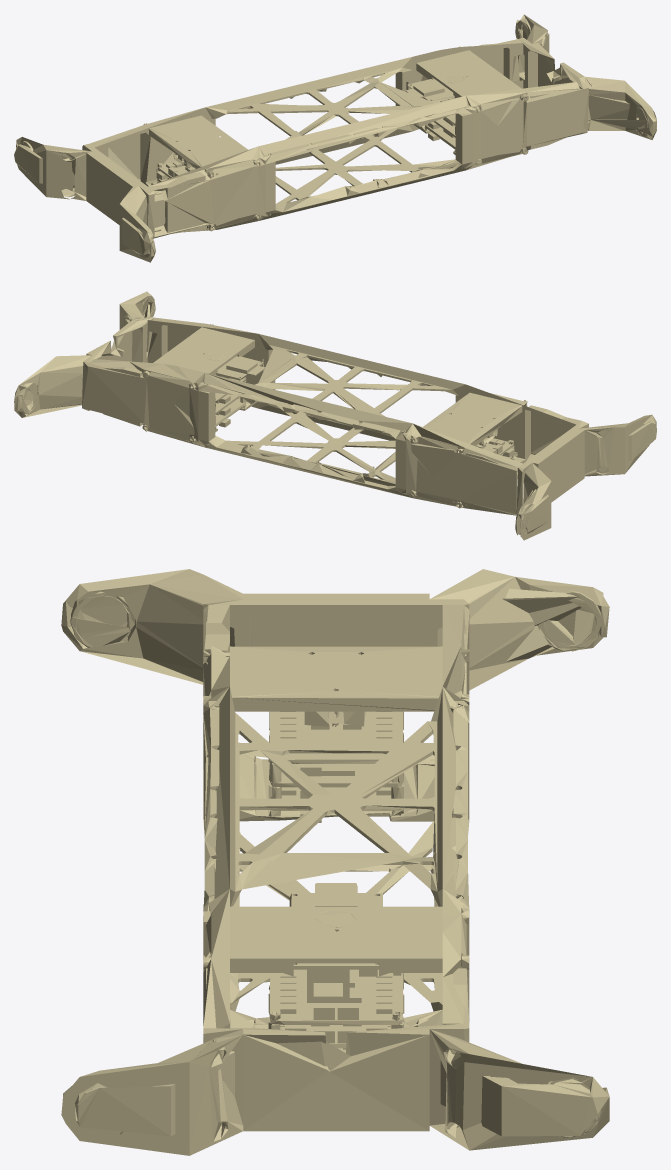
Rendered from Body_Structure.dae.
The picture shows the model from 3 angles, top to bottom: view 1: azimuth 30°, elevation 25°; view 2: azimuth 150°, elevation 25°; view 3: azimuth 270°, elevation 25°; orthographic projection. The views are drawn at different scales.
Parts seen in each view (by area): view 1: visual_Body_Structure; view 2: visual_Body_Structure; view 3: visual_Body_Structure.
Boxes of the visible parts, box(x1,y1,x2,y2) form: visual_Body_Structure: box(14, 14, 656, 262); visual_Body_Structure: box(14, 291, 656, 540); visual_Body_Structure: box(61, 569, 609, 1155).
Bounding box in the file's own units: 0.4453 × 0.2059 × 0.062.
